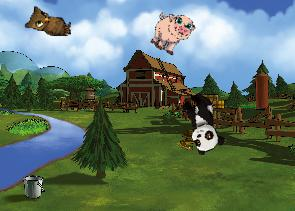owl: (24, 5, 73, 36)
panda: (176, 89, 227, 156)
pig: (145, 5, 198, 60)
